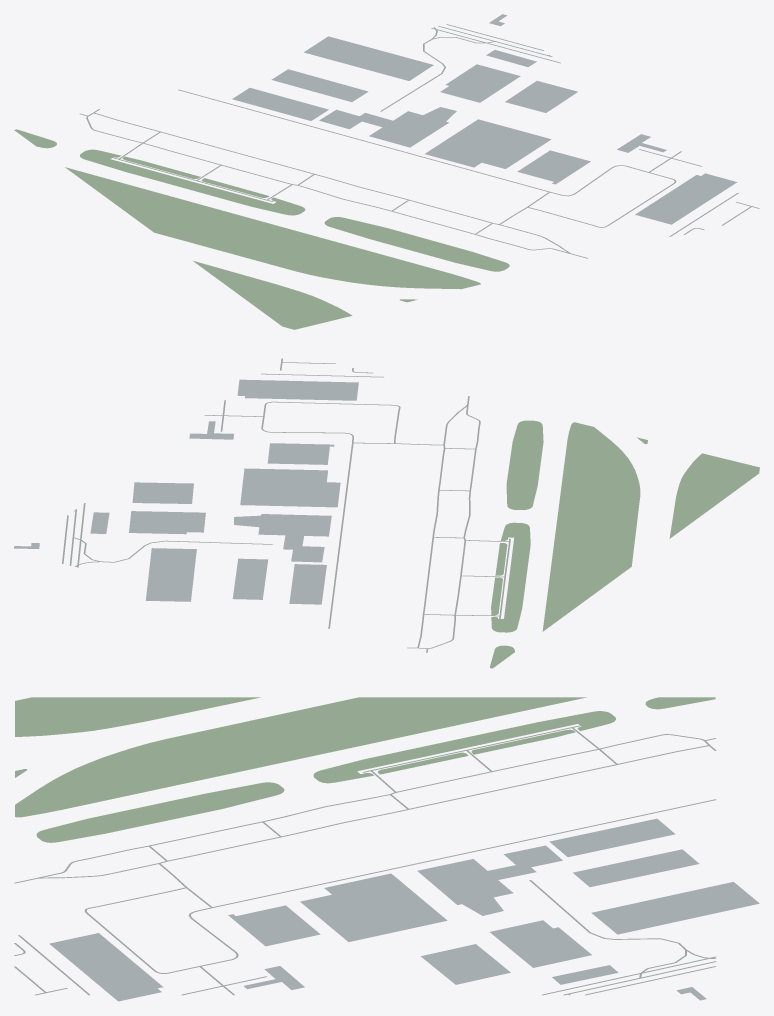
Rendered from -22_11-known-fine.glb.
The picture shows the model from 3 angles, top to bottom: view 1: azimuth 30°, elevation 25°; view 2: azimuth 150°, elevation 25°; view 3: azimuth 270°, elevation 25°; orthographic projection. The views are drawn at different scales.
Bounding box in the file's own units: 1022 × 0.15 × 1059.
